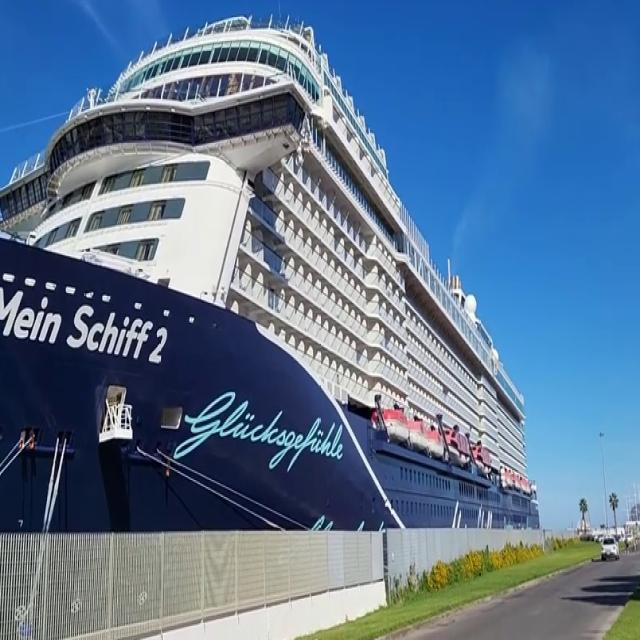passenger ship: (0, 35, 556, 598)
